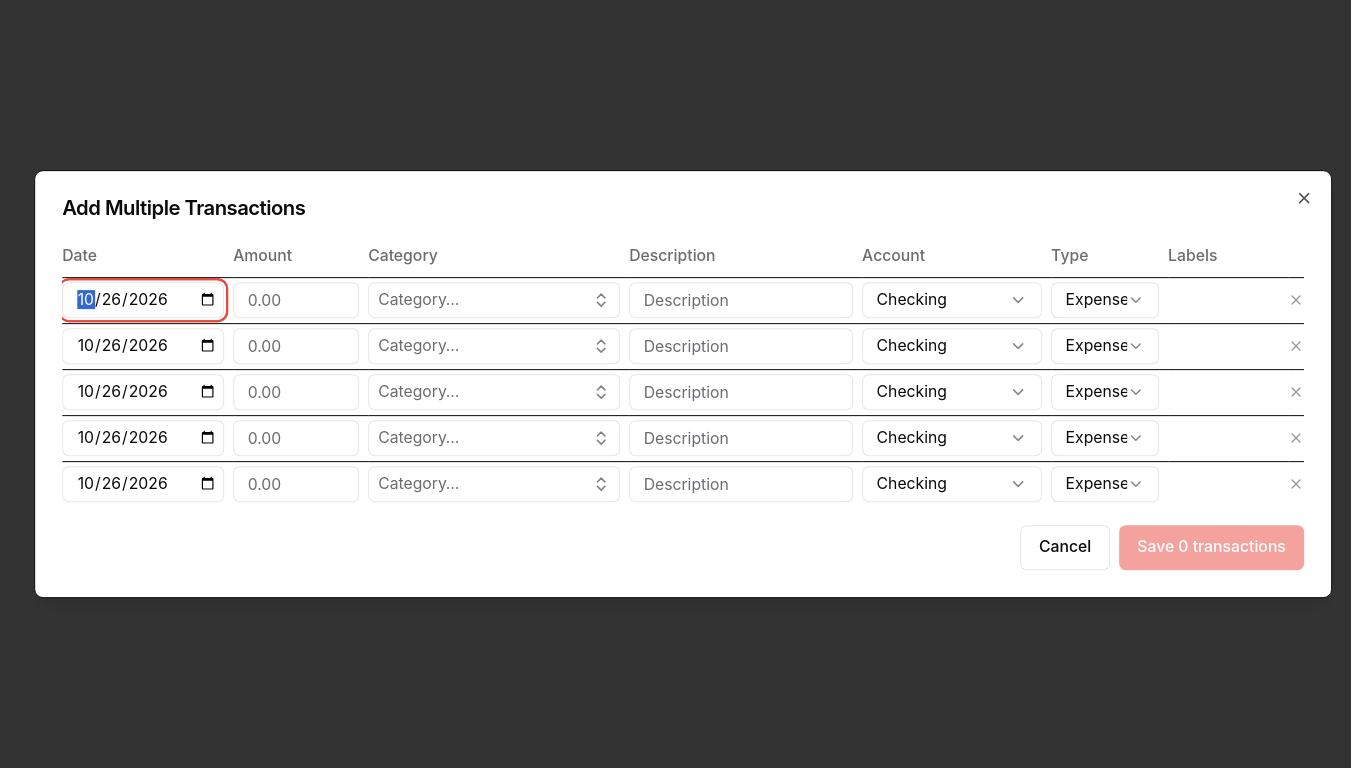
Test: MultiTransactionForm accessibility › shows a batch-save failure inside the open dialog
In the number field named "Transaction amount": (296, 300) [233,282,359,318], type "10"
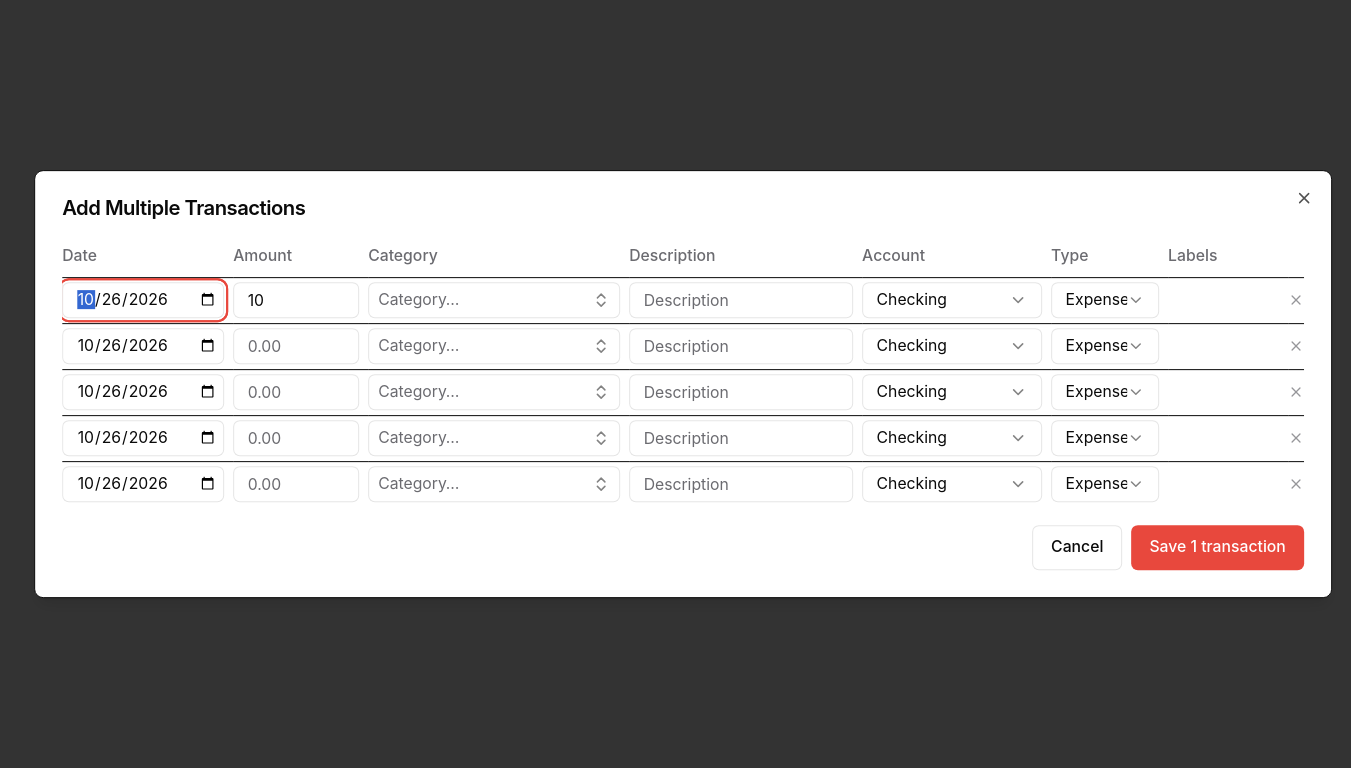
Click the button "Save 1 transaction": (1218, 547) [1131,525,1304,570]
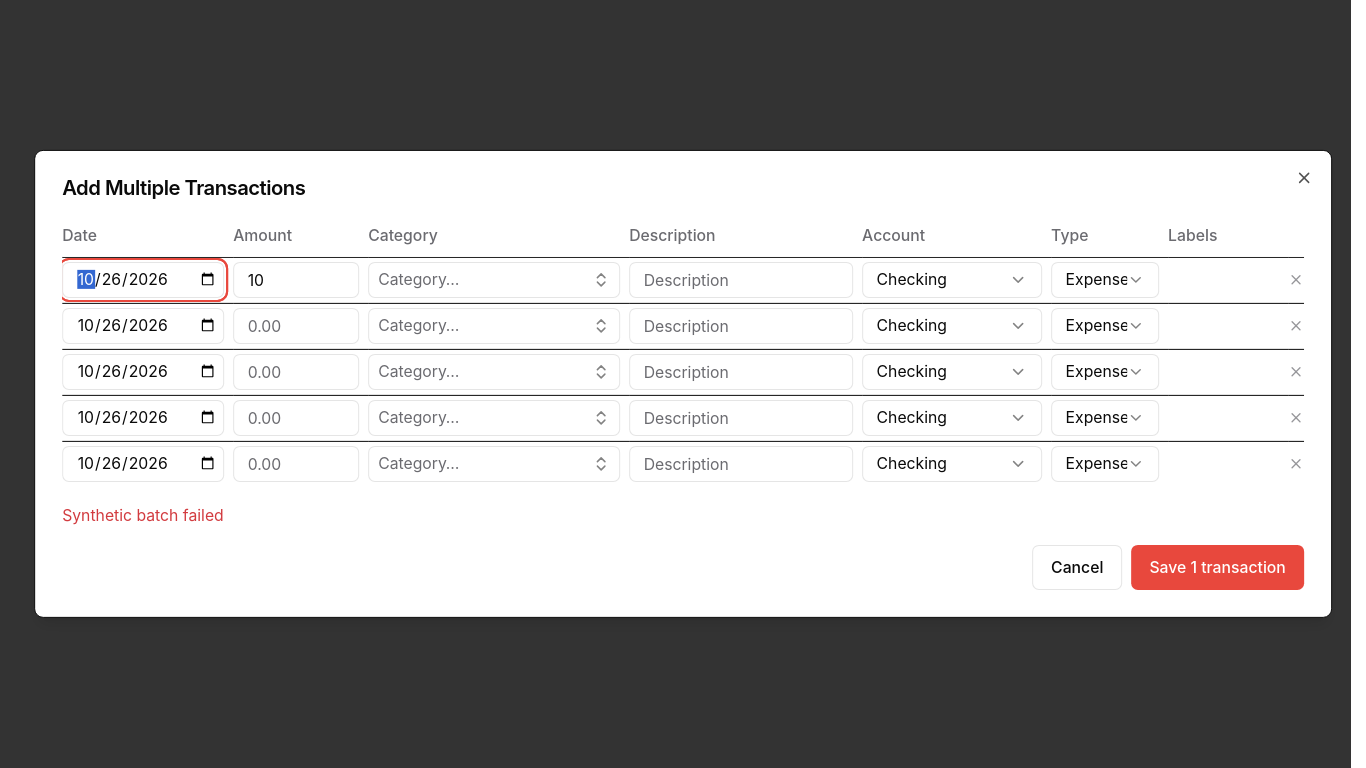
Check: the button "Save 1 transaction" is enabled, box [1131,545,1304,590]
Check: the message reads "Synthetic batch failed", box [62,506,224,525]
